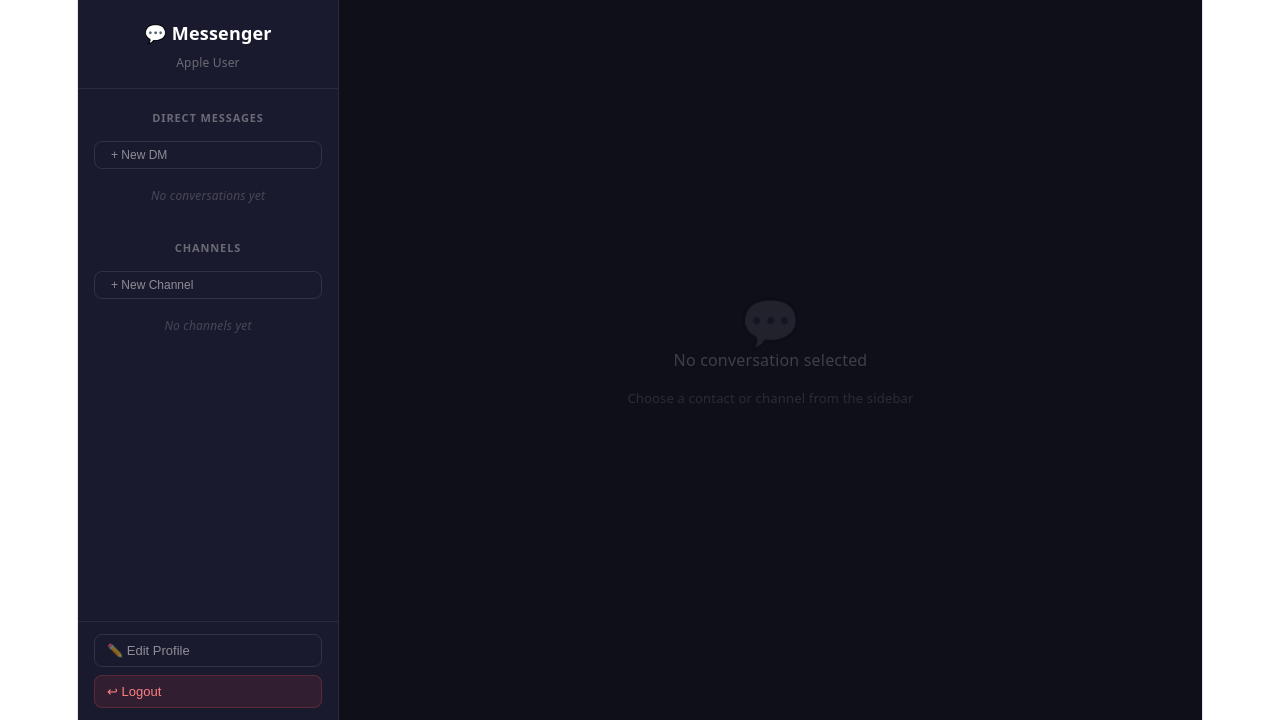
Test: Chat Component › shows channel creation form when + New Channel is clicked
The image size is (1280, 720).
Click the button "+ New Channel" at [208, 286], box [94,272,322,300]
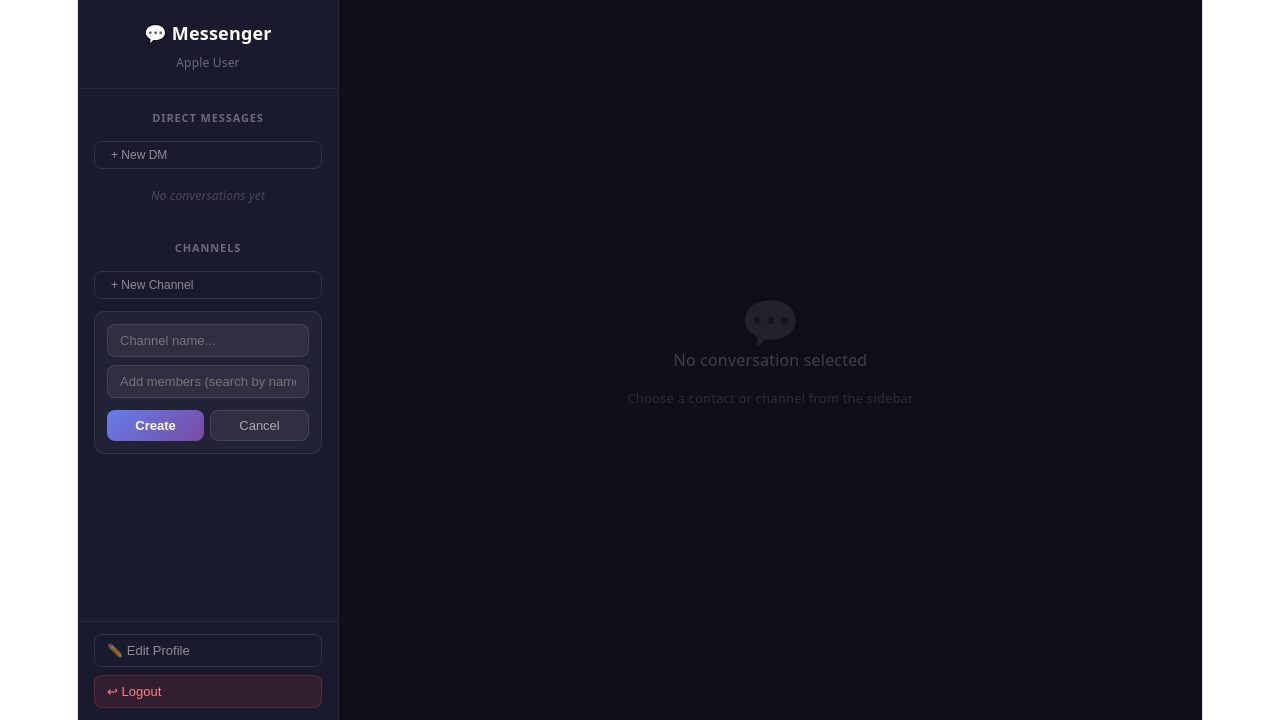
Expected: the field with placeholder "Channel name..." is shown, [107,324,309,358]
